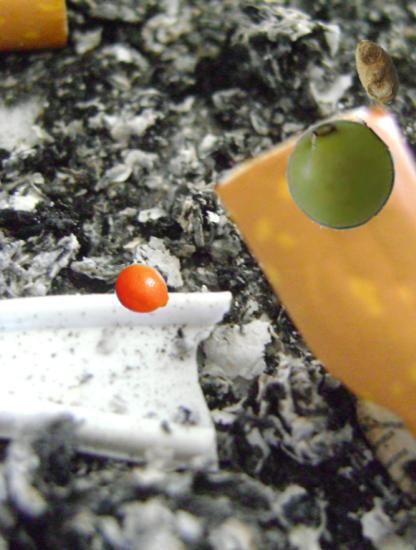Ginger: (342, 37, 412, 107)
Grape: (284, 118, 398, 232)
Tangelo: (114, 262, 171, 319)
